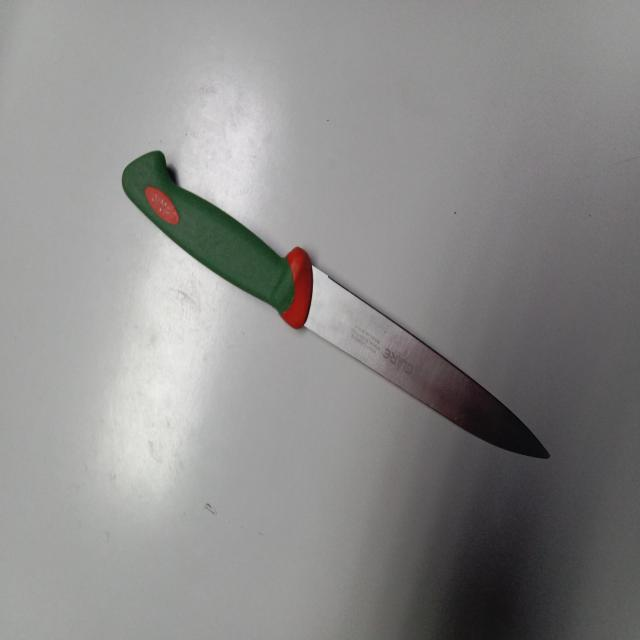Knife: (122, 150, 550, 459)
